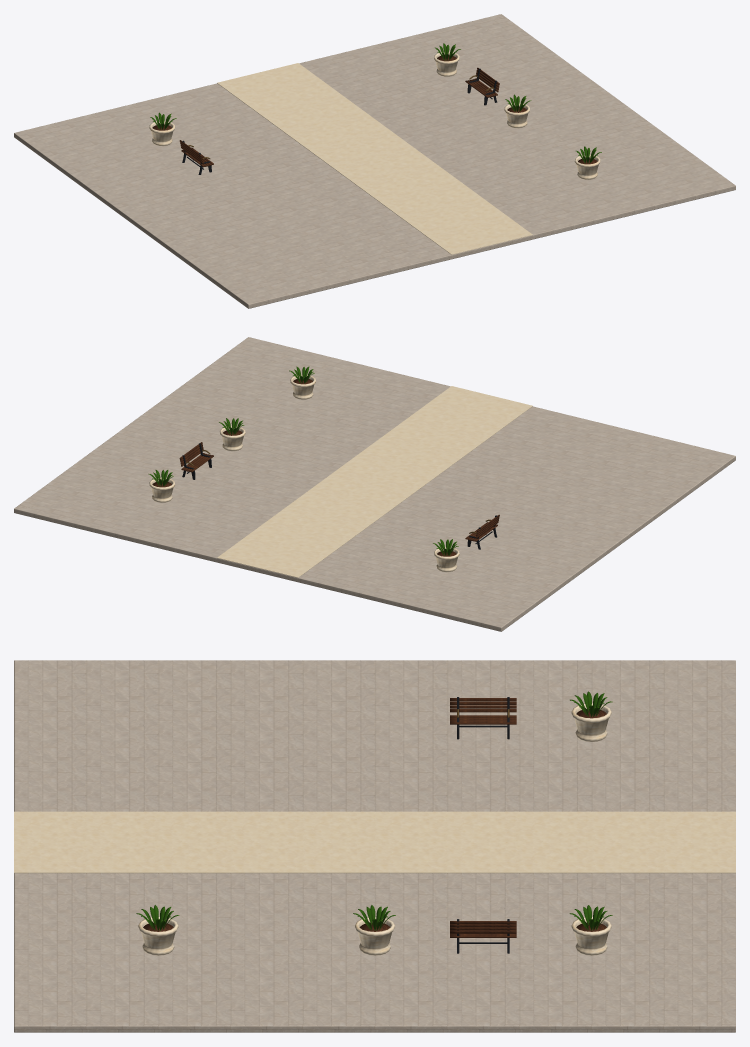
Rendered from explore3d__park_garden.glb.
The picture shows the model from 3 angles, top to bottom: view 1: azimuth 30°, elevation 25°; view 2: azimuth 150°, elevation 25°; view 3: azimuth 270°, elevation 25°; orthographic projection. The views are drawn at different scales.
Parts seen in each view (by area): view 1: park_garden_floor, garden_path; view 2: park_garden_floor, garden_path; view 3: park_garden_floor, garden_path, moulded_planter_vessel.001, moulded_planter_vessel.003, moulded_planter_vessel.002, moulded_planter_vessel.
Boxes of the visible parts, bbox=[...] form: park_garden_floor: bbox=[14, 14, 735, 308]; garden_path: bbox=[217, 63, 532, 254]; park_garden_floor: bbox=[14, 337, 735, 631]; garden_path: bbox=[217, 386, 532, 577]; park_garden_floor: bbox=[14, 660, 735, 1032]; garden_path: bbox=[14, 811, 735, 873]; moulded_planter_vessel.001: bbox=[138, 917, 178, 955]; moulded_planter_vessel.003: bbox=[571, 917, 611, 955]; moulded_planter_vessel.002: bbox=[355, 917, 394, 955]; moulded_planter_vessel: bbox=[571, 703, 611, 741].
Bounding box in the file's own units: 24 × 1.36 × 20.
7 materials, 7 textured.
